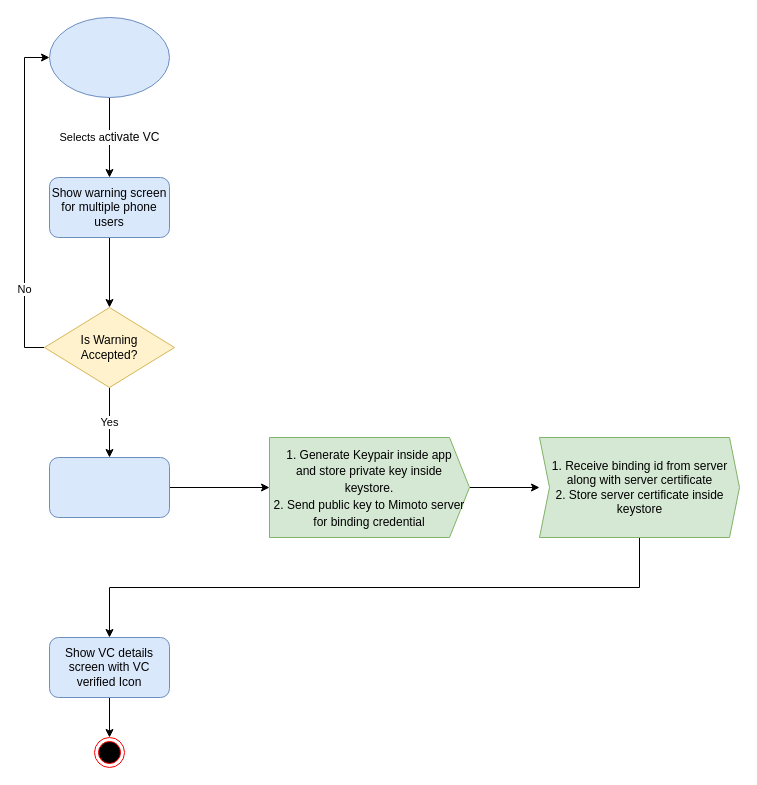
The diagram is 757 pixels wide and 785 high, and some of its shapes have lost their labels. The shapes that lost their labels are listed below. From the top down, each one's centre as x and y in pixels, then its label:
At (109,57): "User is inside VC details Screen".
At (109,487): "Show enter OTP Screen".
